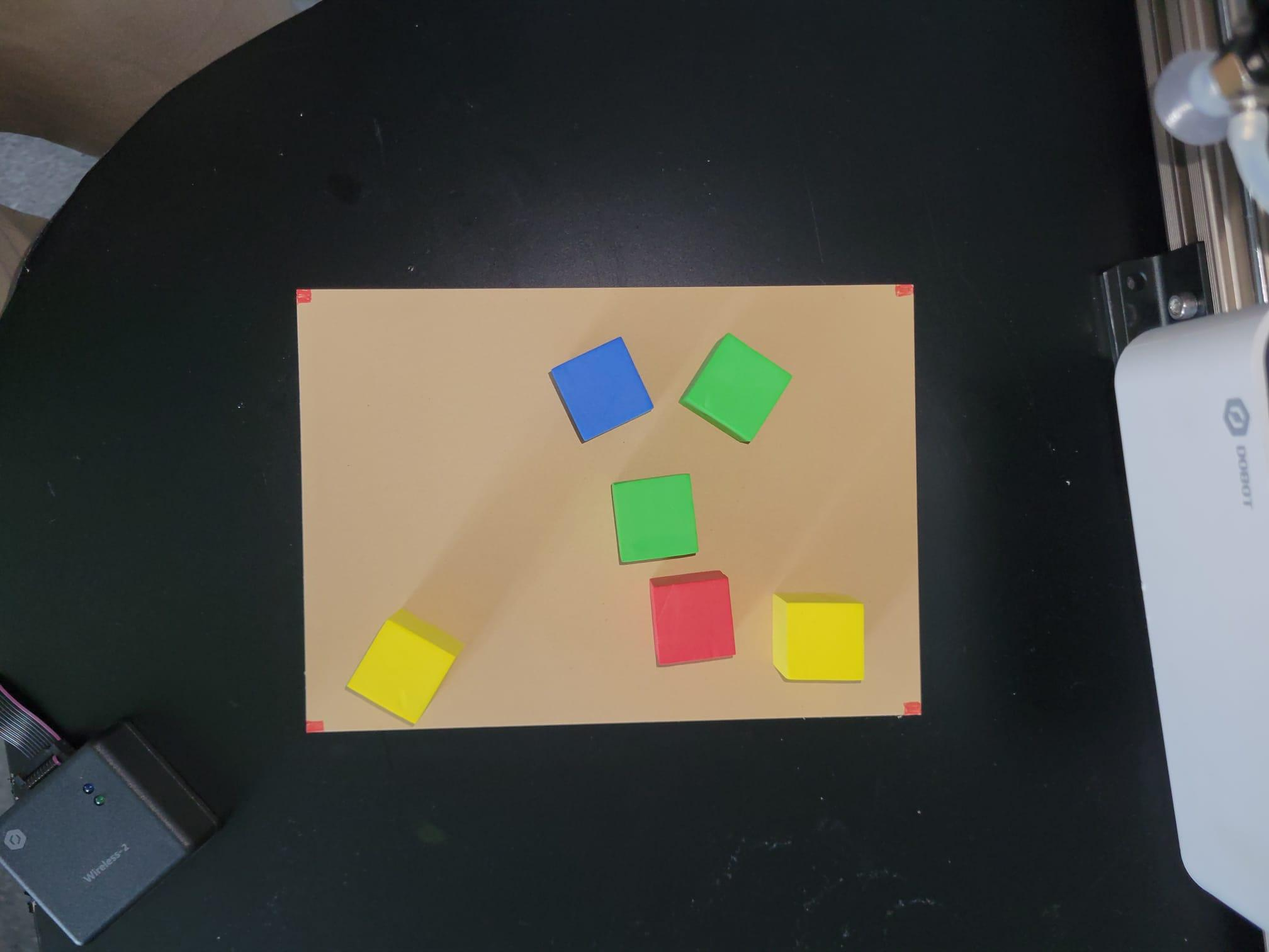cube: (682, 336, 788, 443), (553, 336, 655, 445), (349, 618, 453, 724), (612, 470, 701, 564), (772, 593, 867, 681), (652, 573, 738, 667)
